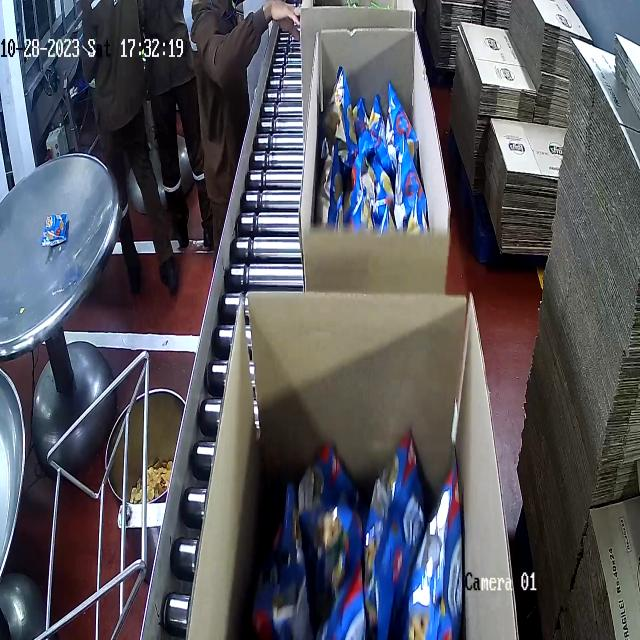PAPRIKA: (275, 433, 466, 640), (312, 59, 431, 235)
